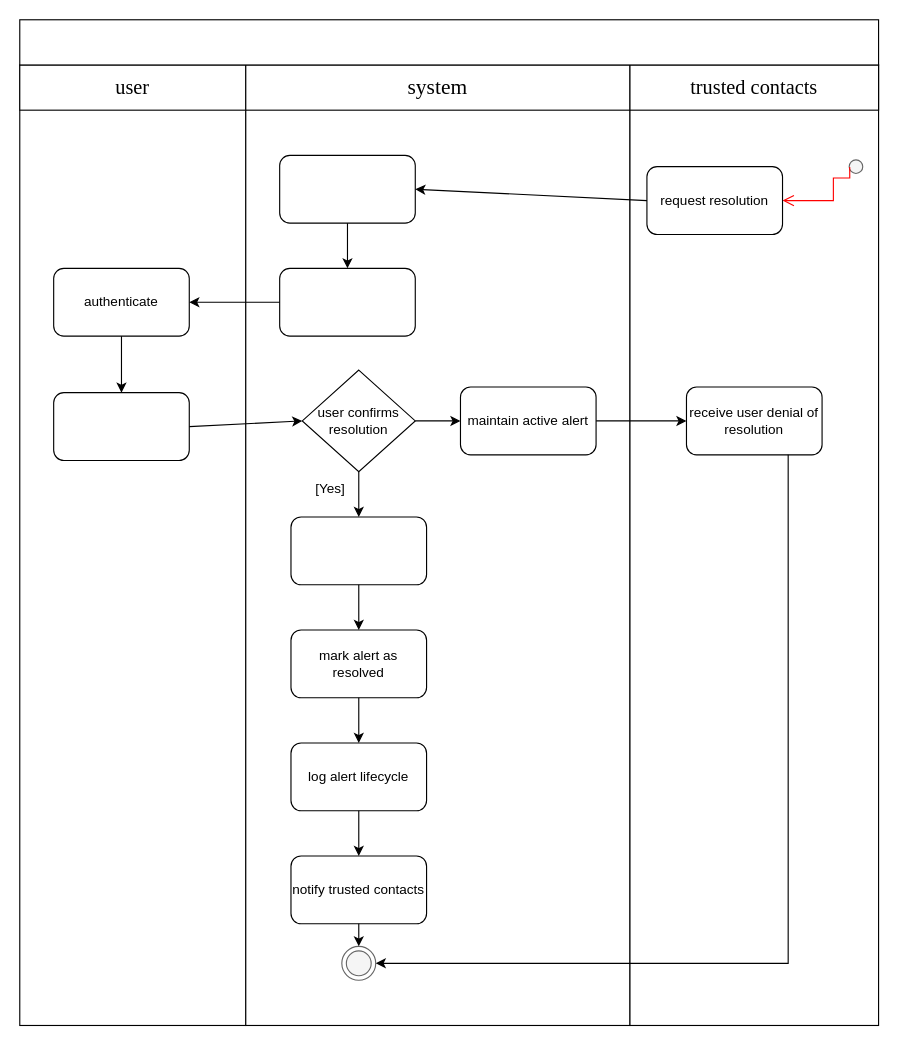
This 898x1045 diagram has some shape labels left out. The centre of each missing label's shape, as x and y in pixels:
"alert resolution by trusted contacts and user confirmation" goes at (449,42).
"ask user for confirmation" goes at (347,301).
"confirm resolution" goes at (121,426).
"receive resolution request" goes at (347,188).
"stops location sharing" goes at (358,550).
